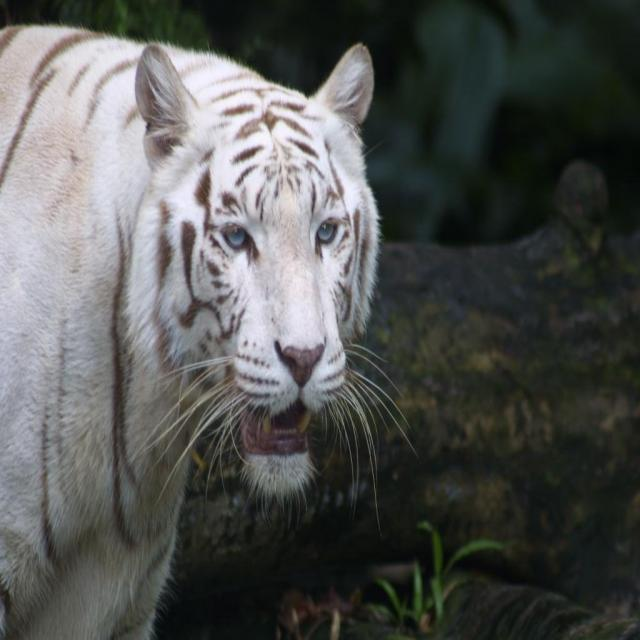Tiger: (0, 27, 418, 639)
